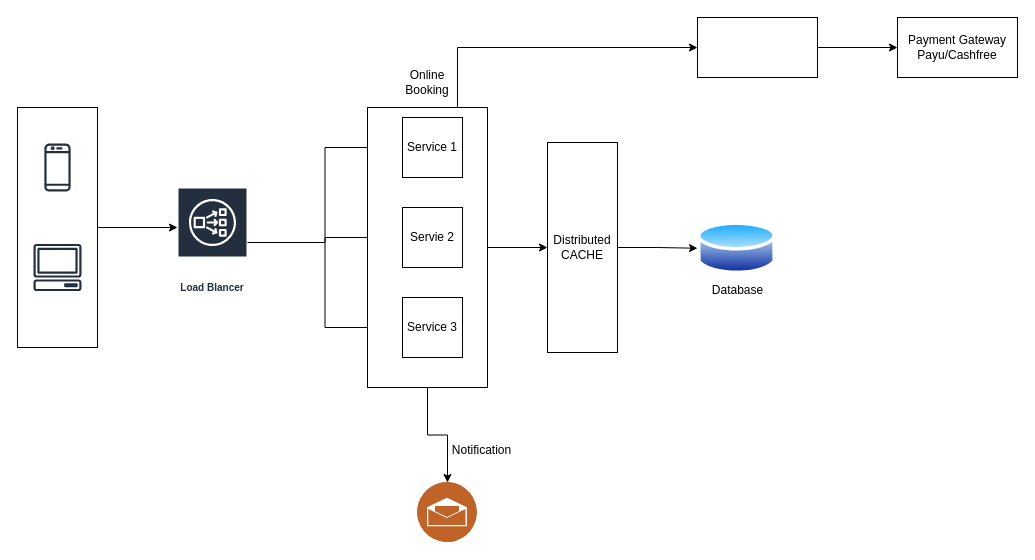
Some shapes in this 1035 by 560 pixel diagram are drawn without their labels. Here are the shapes that lost their labels. From the top down, the box of each, then its label:
(696, 16, 818, 78): Payment
(26, 136, 88, 198): Mobile client
(26, 236, 88, 298): Web
